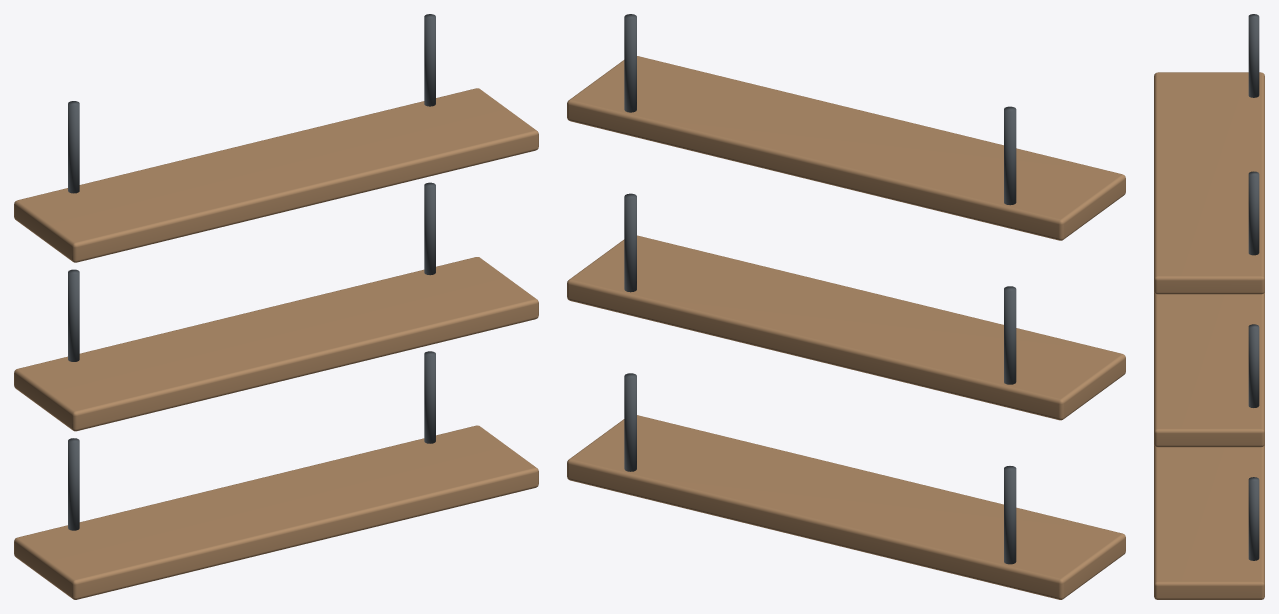
File: atelier-display-shelf.glb
3 renders of one model, left to right at view 1: azimuth 30°, elevation 25°; view 2: azimuth 150°, elevation 25°; view 3: azimuth 270°, elevation 25°, orthographic. The views are drawn at different scales.
Parts seen in each view (by area): view 1: legs.083, metal.027; view 2: legs.083, metal.027; view 3: legs.083, metal.027.
Part boxes in pixels (left/top/right/bottom): legs.083: left=14, top=88, right=538, bottom=599; metal.027: left=68, top=14, right=435, bottom=530; legs.083: left=567, top=56, right=1125, bottom=599; metal.027: left=624, top=14, right=1016, bottom=564; legs.083: left=1154, top=72, right=1264, bottom=599; metal.027: left=1248, top=14, right=1259, bottom=560.
Bounding box in the file's own units: 1.1 × 1 × 0.25.
